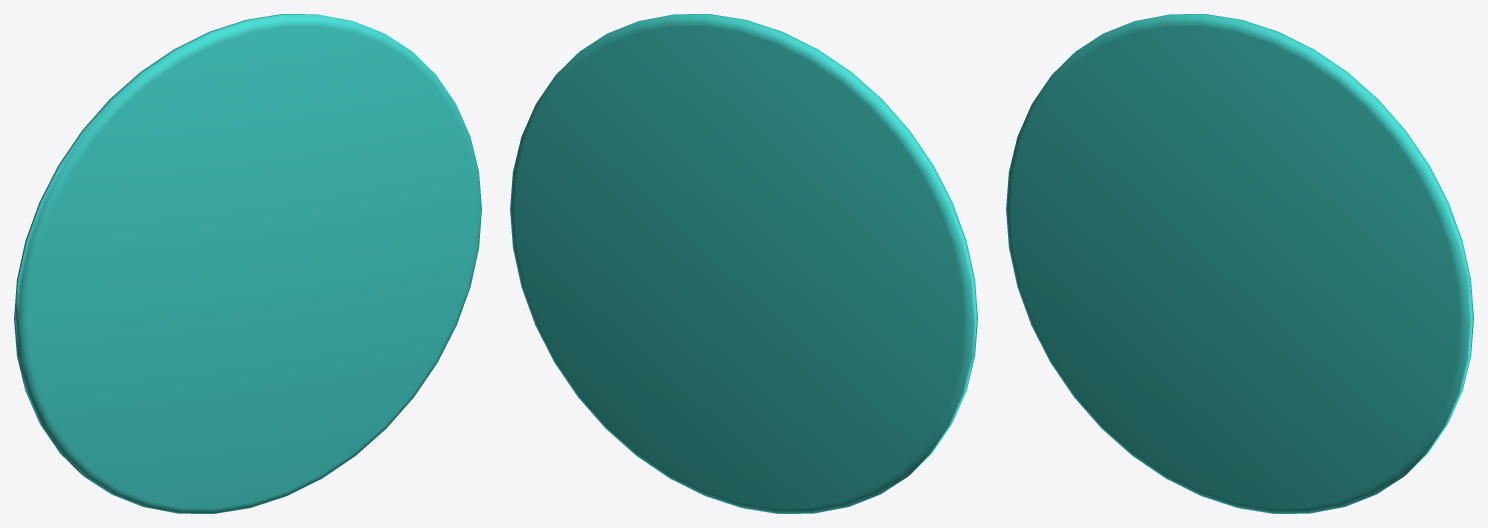
The model's file is MainWaterBowlContent_Premium.fbx.
3 views of the same model, side by side, from view 1: azimuth 30°, elevation 25°; view 2: azimuth 150°, elevation 25°; view 3: azimuth 330°, elevation 25° (orthographic).
Visible parts, largest first — view 1: MainWaterBowlContent; view 2: MainWaterBowlContent; view 3: MainWaterBowlContent.
Part boxes in pixels (x1,y1,x2,y2): MainWaterBowlContent: (14, 14, 481, 513); MainWaterBowlContent: (510, 14, 977, 513); MainWaterBowlContent: (1006, 14, 1473, 513).
Bounding box in the file's own units: 0.232 × 0.232 × 0.008.
